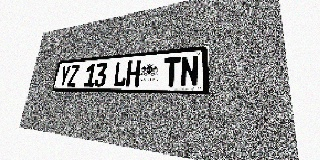1: (83, 63, 97, 87)
3: (94, 62, 108, 87)
H: (125, 60, 141, 87)
L: (113, 61, 128, 87)
N: (180, 55, 199, 87)
T: (163, 57, 181, 87)
Y: (58, 65, 71, 87)
Z: (67, 65, 80, 87)
